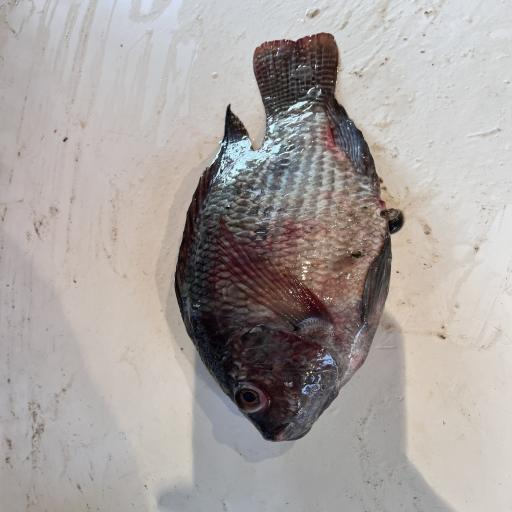Tilapia: (174, 32, 404, 443)
